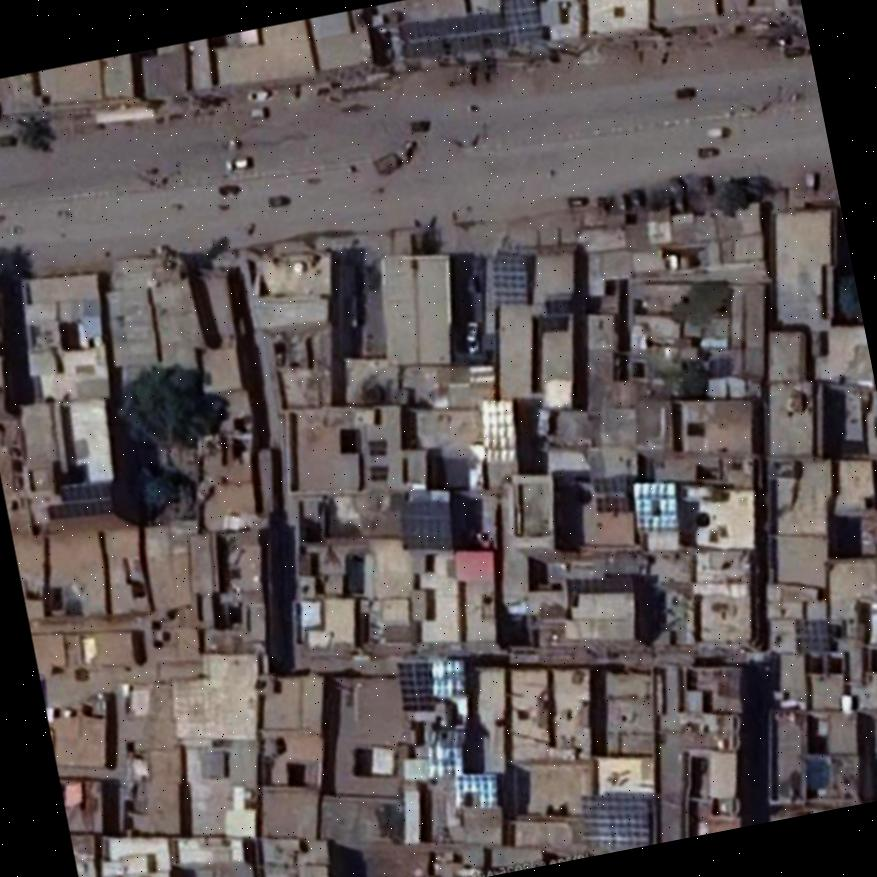Solarpanel: (397, 9, 505, 57), (580, 794, 650, 843), (397, 500, 451, 550), (635, 481, 676, 531), (397, 658, 436, 708), (491, 252, 529, 302), (501, 0, 543, 43), (593, 476, 627, 514), (47, 500, 115, 517), (793, 618, 829, 649), (57, 481, 111, 496)
